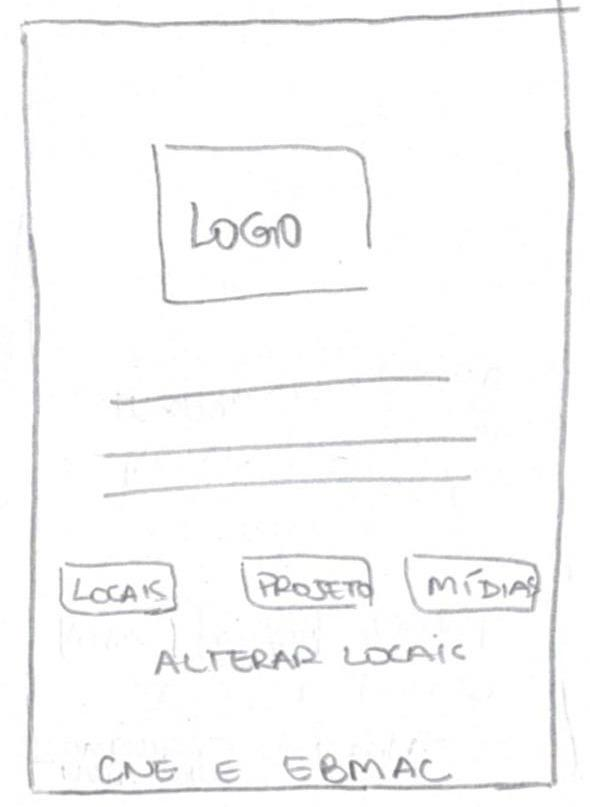Button: (150, 141, 374, 305), (400, 554, 540, 614), (239, 557, 374, 610), (56, 562, 177, 615)
Label: (98, 373, 478, 500), (155, 635, 468, 677), (99, 753, 453, 785)
Screen: (20, 7, 571, 798)
